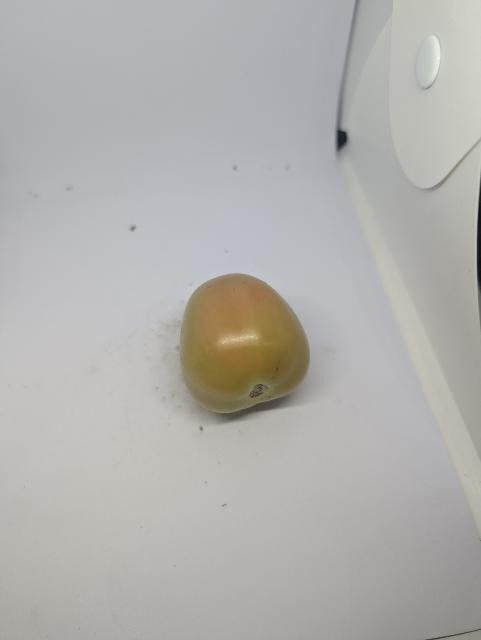breaker: (174, 273, 314, 417)
